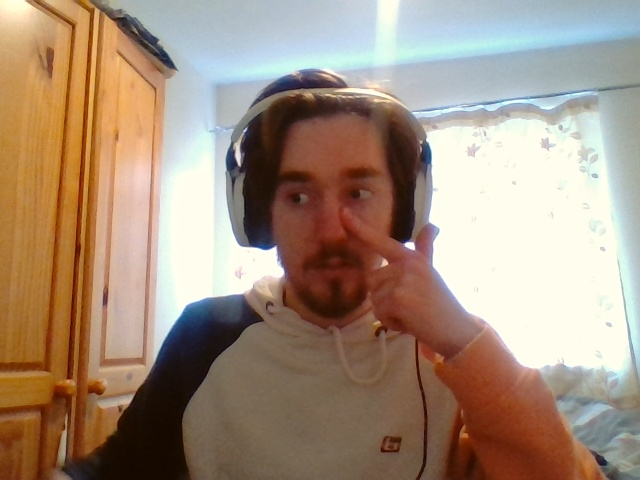luck: (340, 206, 440, 335)
